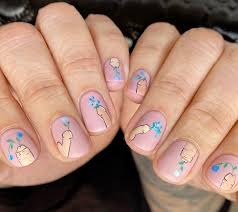nail: (155, 138, 199, 184), (50, 113, 91, 156), (78, 88, 111, 134), (128, 111, 167, 149), (1, 126, 38, 165), (205, 153, 238, 192), (126, 67, 150, 101), (101, 55, 128, 82)
